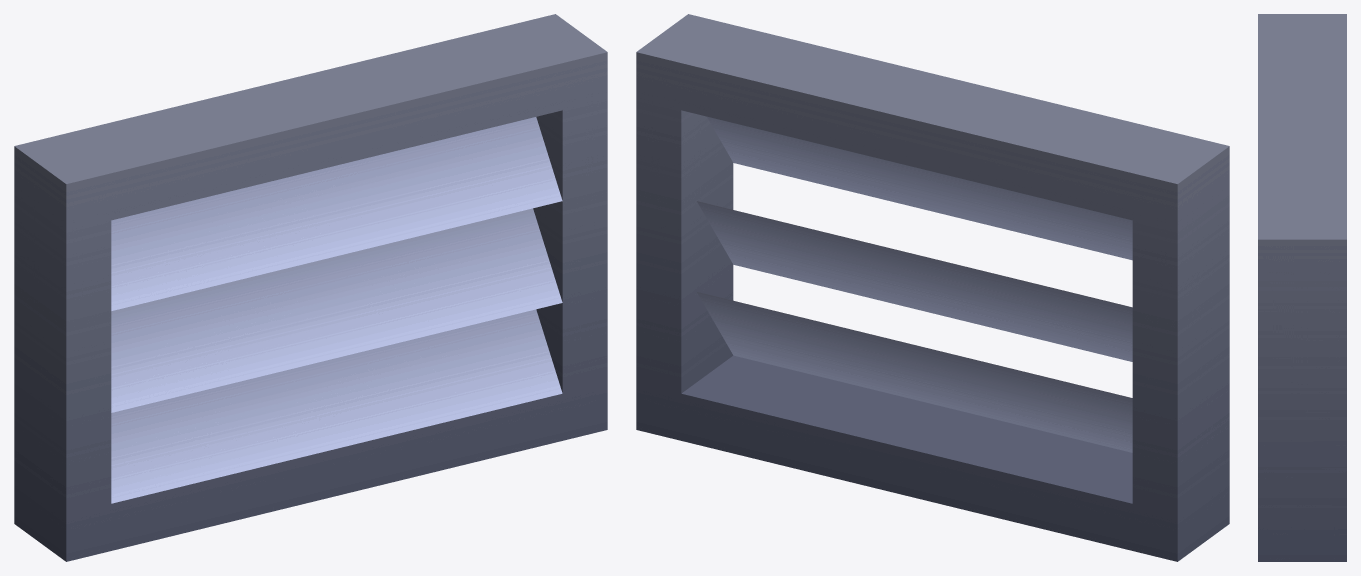
Rendered from wall-window-shutters.glb.
3 renders of one model, left to right at view 1: azimuth 30°, elevation 25°; view 2: azimuth 150°, elevation 25°; view 3: azimuth 270°, elevation 25°, orthographic. The views are drawn at different scales.
Visible parts, largest first — view 1: wall-window-shutters; view 2: wall-window-shutters; view 3: wall-window-shutters.
Part boxes in pixels (<box>): wall-window-shutters: <box>14,14,607,561</box>; wall-window-shutters: <box>636,14,1229,561</box>; wall-window-shutters: <box>1258,14,1346,561</box>.
Size of the model in its own units: 0.6 by 0.4 by 0.1.
1 material, 1 textured.
